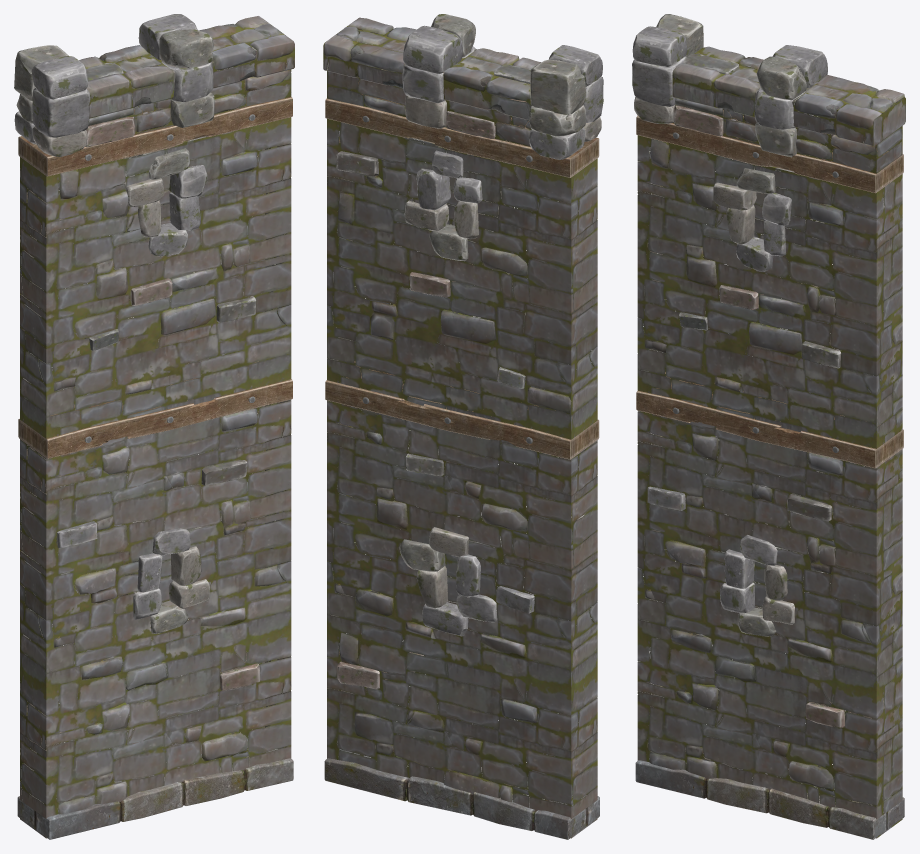
The picture shows the model from 3 angles, left to right: view 1: azimuth 30°, elevation 25°; view 2: azimuth 150°, elevation 25°; view 3: azimuth 330°, elevation 25°; orthographic projection. The views are drawn at different scales.
Parts seen in each view (by area): view 1: SM_Castle_Wall_4x12_01_v1_LOD0; view 2: SM_Castle_Wall_4x12_01_v1_LOD0; view 3: SM_Castle_Wall_4x12_01_v1_LOD0.
Boxes of the visible parts, left/top/right/bottom form: SM_Castle_Wall_4x12_01_v1_LOD0: left=14, top=14, right=294, bottom=839; SM_Castle_Wall_4x12_01_v1_LOD0: left=323, top=14, right=603, bottom=839; SM_Castle_Wall_4x12_01_v1_LOD0: left=632, top=14, right=905, bottom=839.
Bounding box in the file's own units: 4.04 × 11.96 × 1.12.
Materials: 6 (6 with a texture image).
